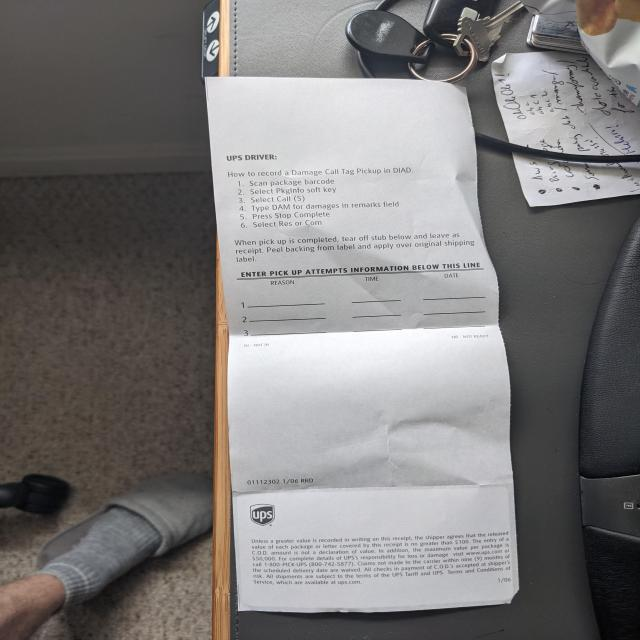litter: (205, 74, 519, 611)
